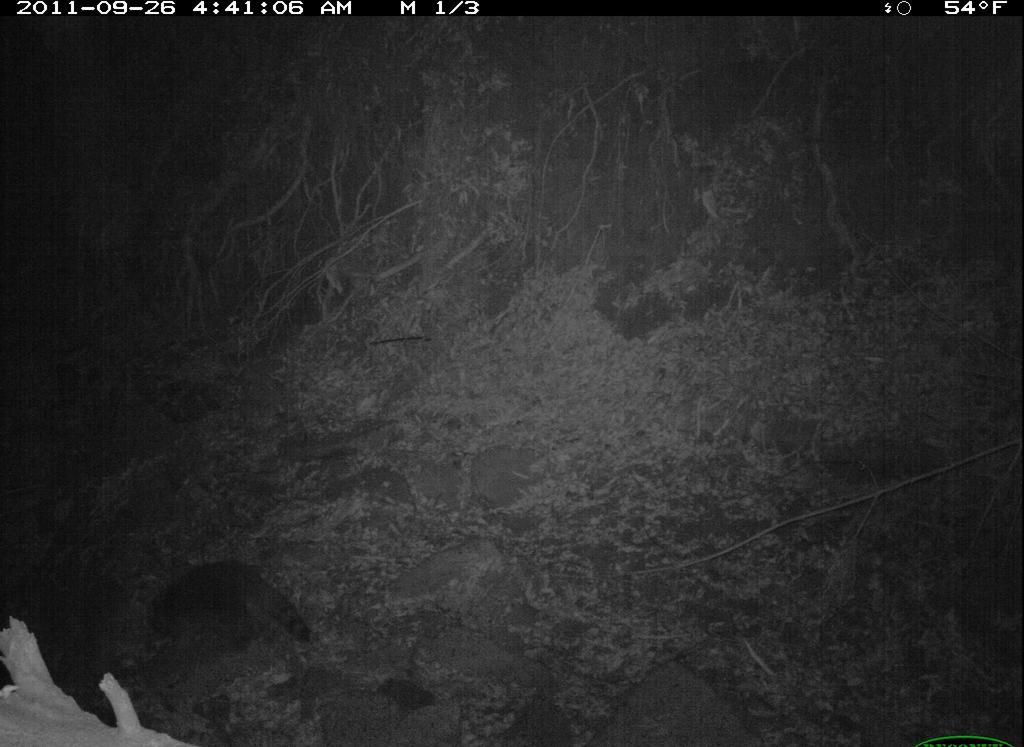raccoon: (140, 556, 315, 673)
